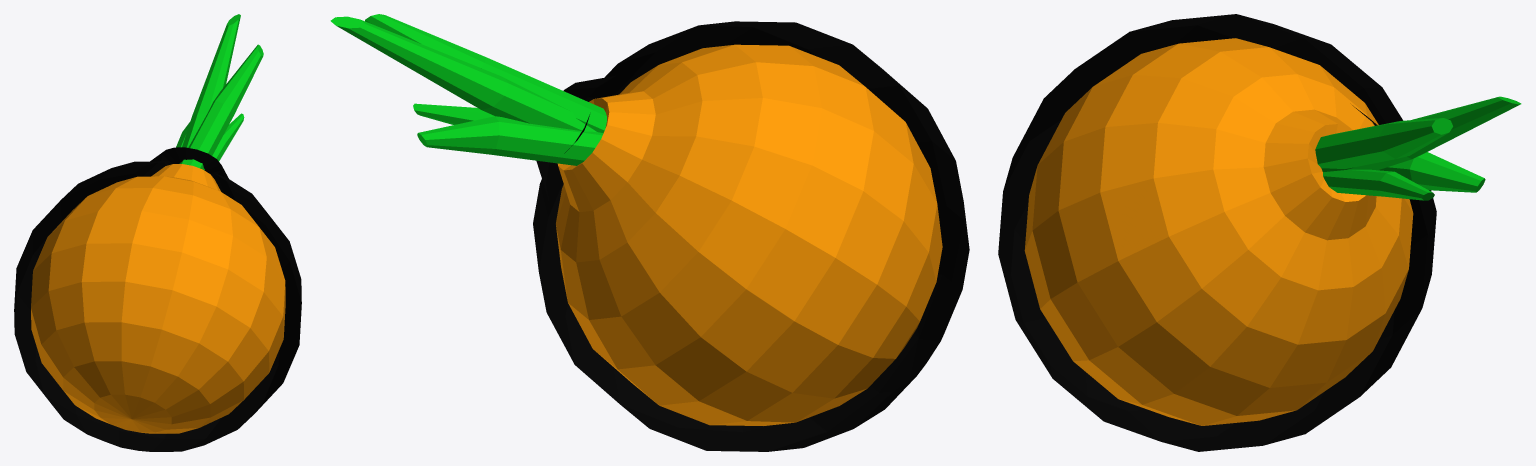
File: Cibule.fbx
The picture shows the model from 3 angles, left to right: view 1: azimuth 30°, elevation 25°; view 2: azimuth 150°, elevation 25°; view 3: azimuth 270°, elevation 25°; orthographic projection. The views are drawn at different scales.
Parts seen in each view (by area): view 1: Cibule; view 2: Cibule; view 3: Cibule.
Part boxes in pixels (x1,y1,x2,y2): Cibule: (14,14,301,451); Cibule: (330,14,969,451); Cibule: (998,14,1521,451).
Bounding box in the file's own units: 273 × 261 × 268.
